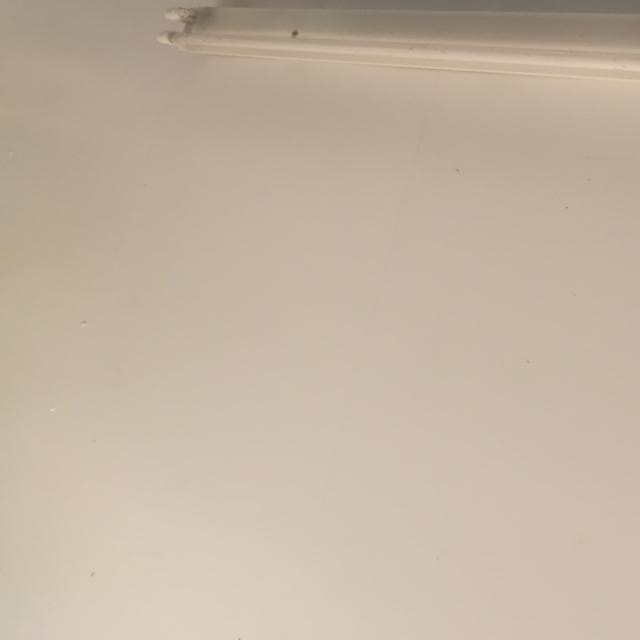fluorescent tube: (149, 0, 640, 125)
